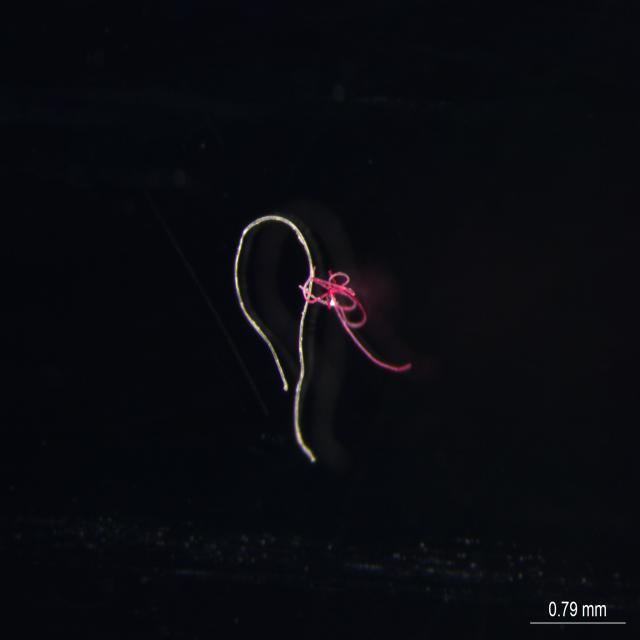fibers: (179, 195, 425, 464), (297, 257, 427, 384)
